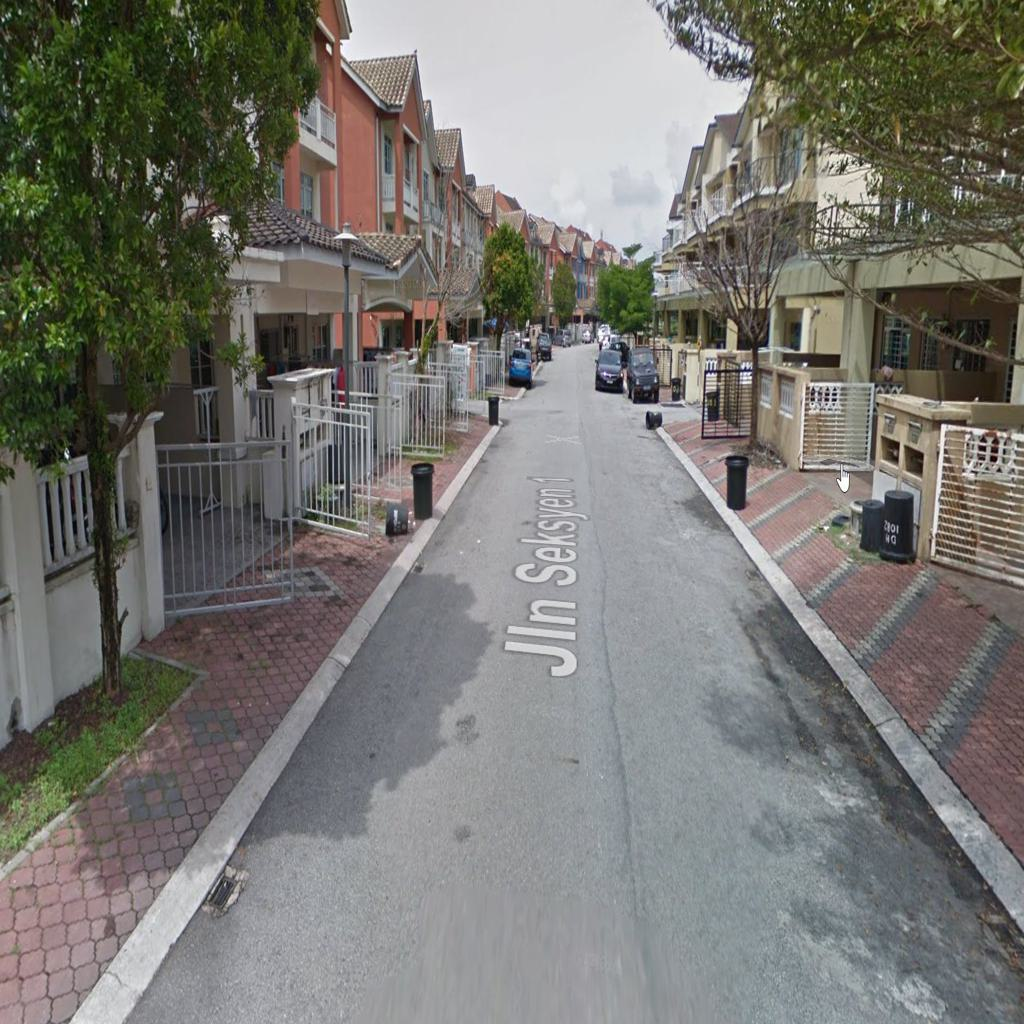Junction: (607, 376, 739, 449), (451, 357, 527, 420)
